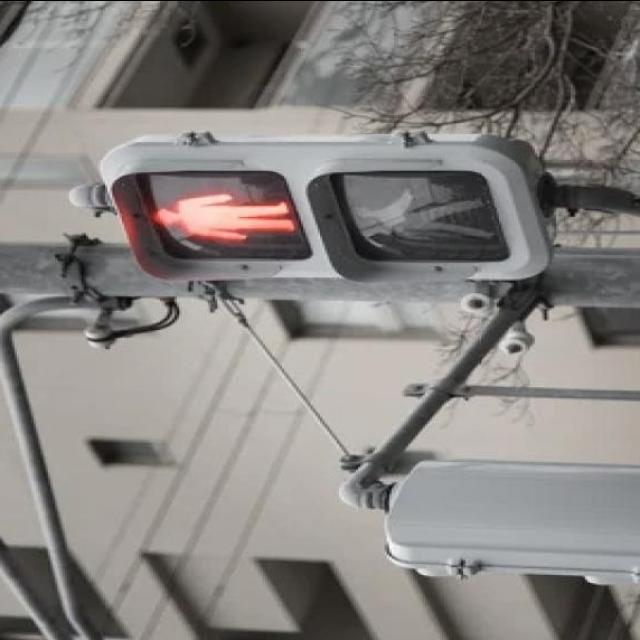red_light: (154, 178, 292, 254)
